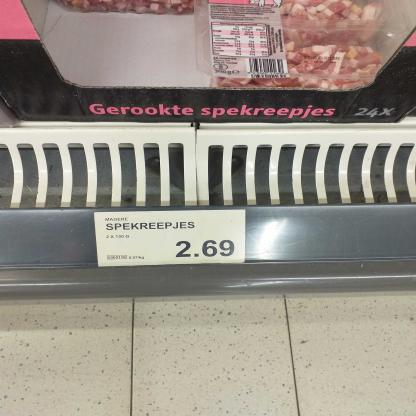prtg: (95, 211, 247, 268)
